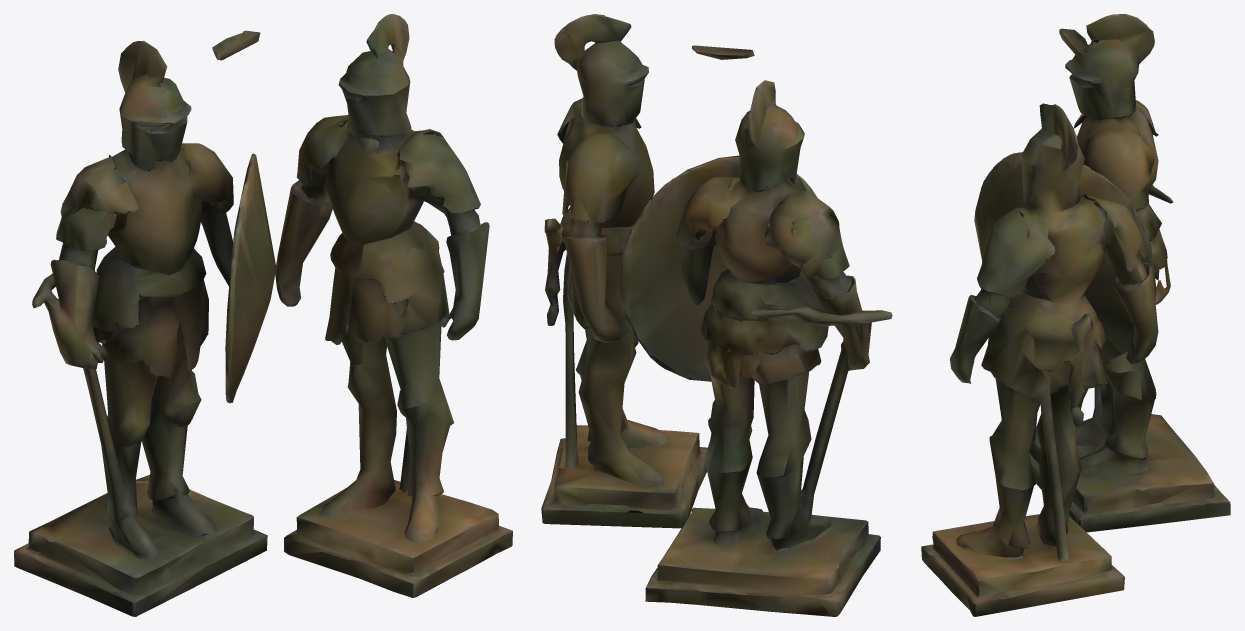
Rendered from sturdy-bronze-suit-of-armour-v001.glb.
The picture shows the model from 3 angles, left to right: view 1: azimuth 30°, elevation 25°; view 2: azimuth 150°, elevation 25°; view 3: azimuth 270°, elevation 25°; orthographic projection. The views are drawn at different scales.
Parts seen in each view (by area): view 1: sturdy-bronze-suit-of-armour; view 2: sturdy-bronze-suit-of-armour; view 3: sturdy-bronze-suit-of-armour.
Boxes of the visible parts, box(x1,y1,x2,y2) form: sturdy-bronze-suit-of-armour: box(14, 14, 512, 616); sturdy-bronze-suit-of-armour: box(541, 14, 892, 616); sturdy-bronze-suit-of-armour: box(921, 14, 1230, 616).
Bounding box in the file's own units: 1.53 × 1.83 × 1.07.
Materials: 1 (1 with a texture image).
